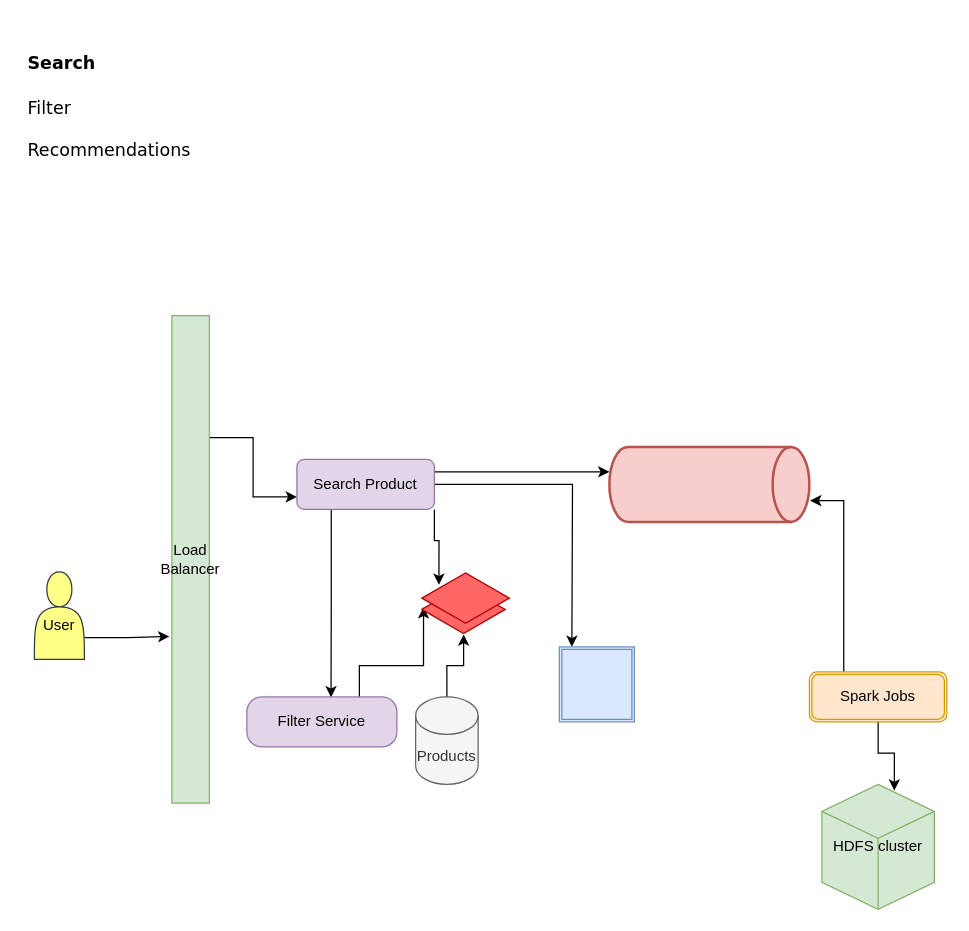
This 969x931 diagram has some shape labels left out. Here are the shapes that lost their labels. From the top down, the box of each, then its label:
(608, 445, 810, 522): Message broker (Kafka)
(421, 571, 509, 624): Redis
(558, 646, 634, 722): Elasticsearch
